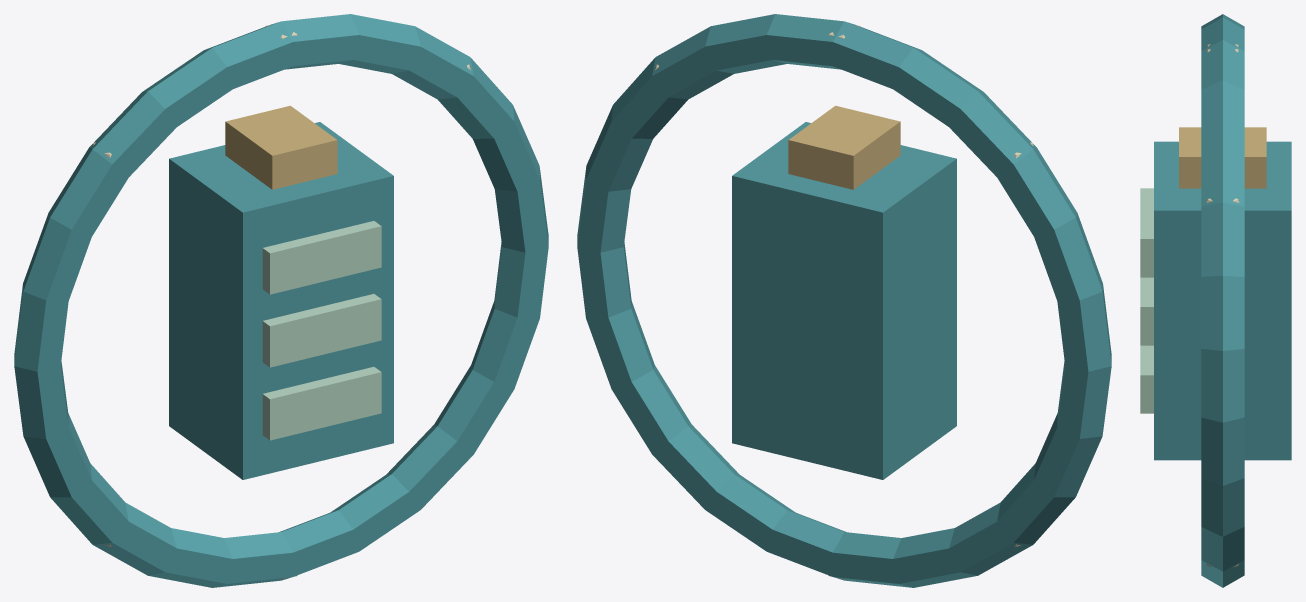
File: marine-power-3.glb
The picture shows the model from 3 angles, left to right: view 1: azimuth 30°, elevation 25°; view 2: azimuth 150°, elevation 25°; view 3: azimuth 270°, elevation 25°; orthographic projection. The views are drawn at different scales.
Parts seen in each view (by area): view 1: marine-power-3; view 2: marine-power-3; view 3: marine-power-3.
Part boxes in pixels (x1=…): marine-power-3: x1=14, y1=14, x2=548, y2=587; marine-power-3: x1=577, y1=14, x2=1111, y2=587; marine-power-3: x1=1140, y1=14, x2=1291, y2=587.
Bounding box in the file's own units: 2.3 × 2.3 × 0.605.
